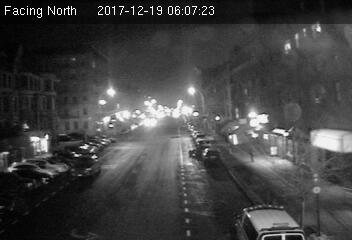car: (69, 153, 103, 177), (202, 148, 220, 164)
police: (233, 201, 311, 239)
